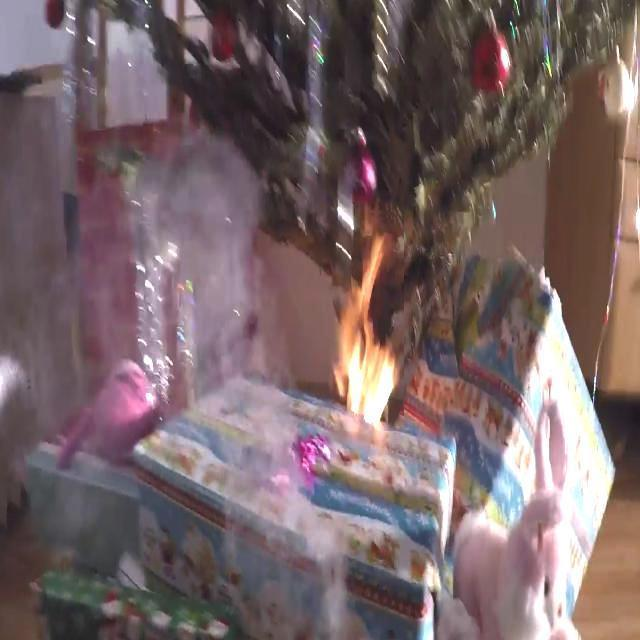fire: (117, 129, 350, 640)
smoke: (328, 208, 404, 430)
